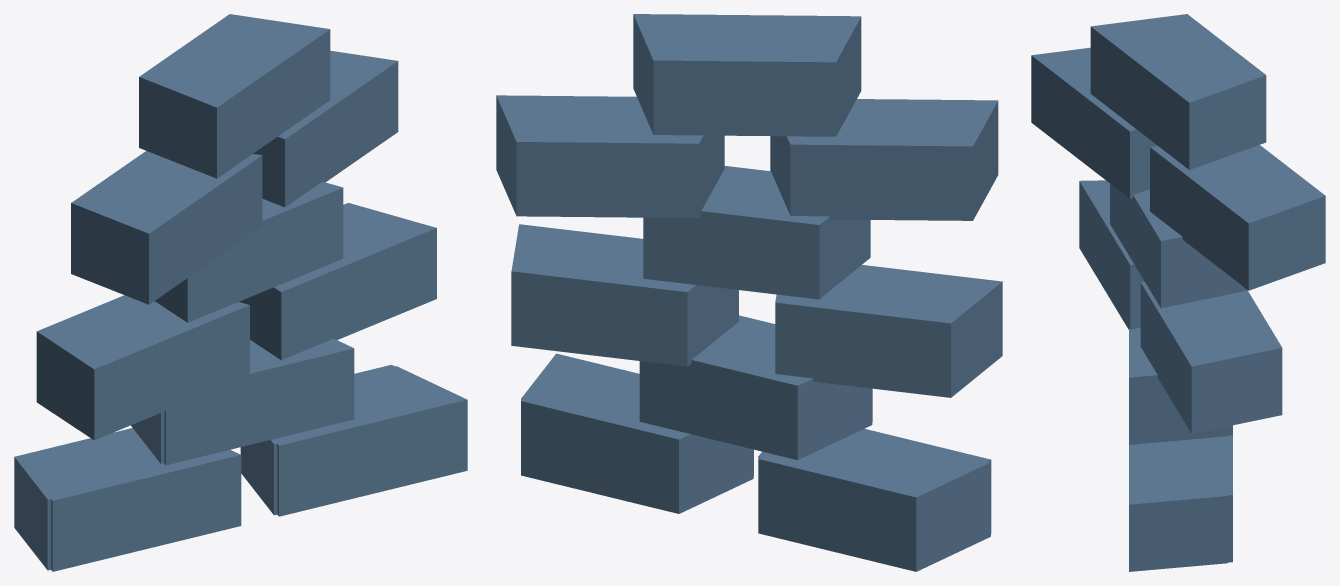
File: Ingot_TitaniumAlloy.fbx
The picture shows the model from 3 angles, left to right: view 1: azimuth 30°, elevation 25°; view 2: azimuth 150°, elevation 25°; view 3: azimuth 270°, elevation 25°; orthographic projection. The views are drawn at different scales.
Visible parts, largest first — view 1: Ingot_TitaniumAlloy__Stack, Ingot_TitaniumAlloy; view 2: Ingot_TitaniumAlloy__Stack, Ingot_TitaniumAlloy; view 3: Ingot_TitaniumAlloy__Stack, Ingot_TitaniumAlloy.
Part boxes in pixels (box(x1,y1,x2,y2)): Ingot_TitaniumAlloy__Stack: box(14, 14, 447, 570); Ingot_TitaniumAlloy: box(19, 338, 467, 571); Ingot_TitaniumAlloy__Stack: box(496, 14, 1002, 571); Ingot_TitaniumAlloy: box(521, 315, 991, 533); Ingot_TitaniumAlloy__Stack: box(1031, 14, 1325, 562); Ingot_TitaniumAlloy: box(1129, 328, 1227, 571).
Size of the model in its own units: 0.1113 by 0.1125 by 0.0714.
